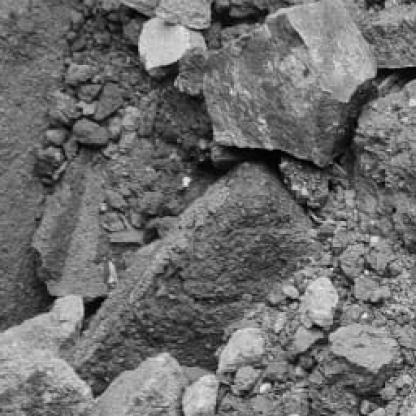cementitious_debris: (33, 0, 249, 244), (213, 154, 414, 414), (202, 3, 307, 51), (352, 1, 413, 15)
